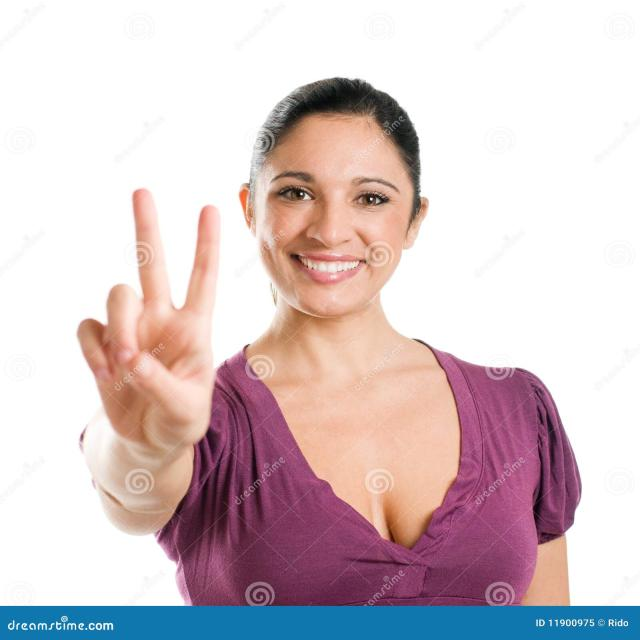Victory: (81, 180, 234, 449)
